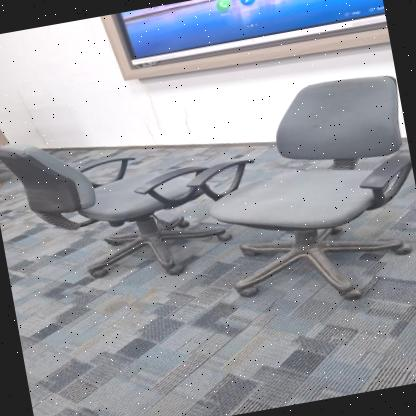chair: (181, 60, 416, 327), (0, 96, 243, 312)
